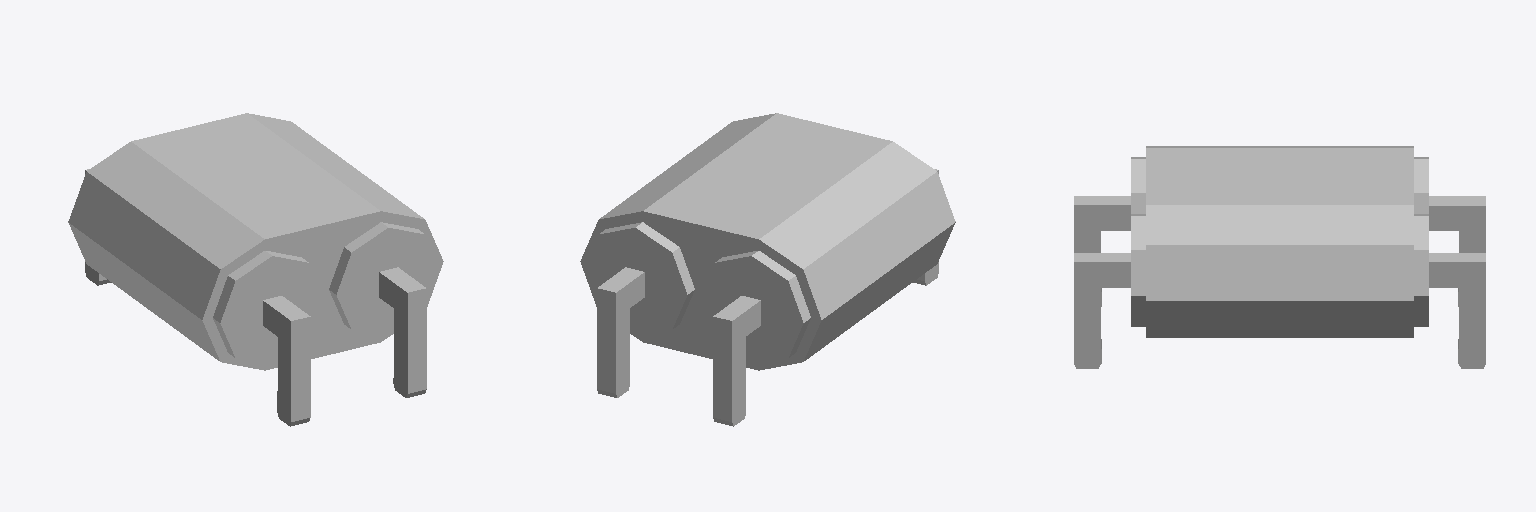
The model's file is capacitor_etx_6_1.obj.
3 renders of one model, left to right at view 1: azimuth 30°, elevation 25°; view 2: azimuth 150°, elevation 25°; view 3: azimuth 270°, elevation 25°, orthographic.
Visible parts, largest first — view 1: capacitor_etx_6_1; view 2: capacitor_etx_6_1; view 3: capacitor_etx_6_1.
Boxes of the visible parts, x1,y1,x2,y2 form: capacitor_etx_6_1: [68, 113, 443, 426]; capacitor_etx_6_1: [580, 113, 955, 426]; capacitor_etx_6_1: [1074, 146, 1485, 368].
Size of the model in its own units: 0.0832 by 0.0525 by 0.1232.